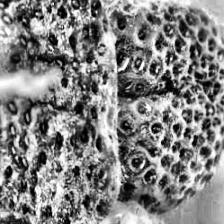Powdery Mildew Fruit: (0, 0, 123, 224), (103, 0, 224, 216)
